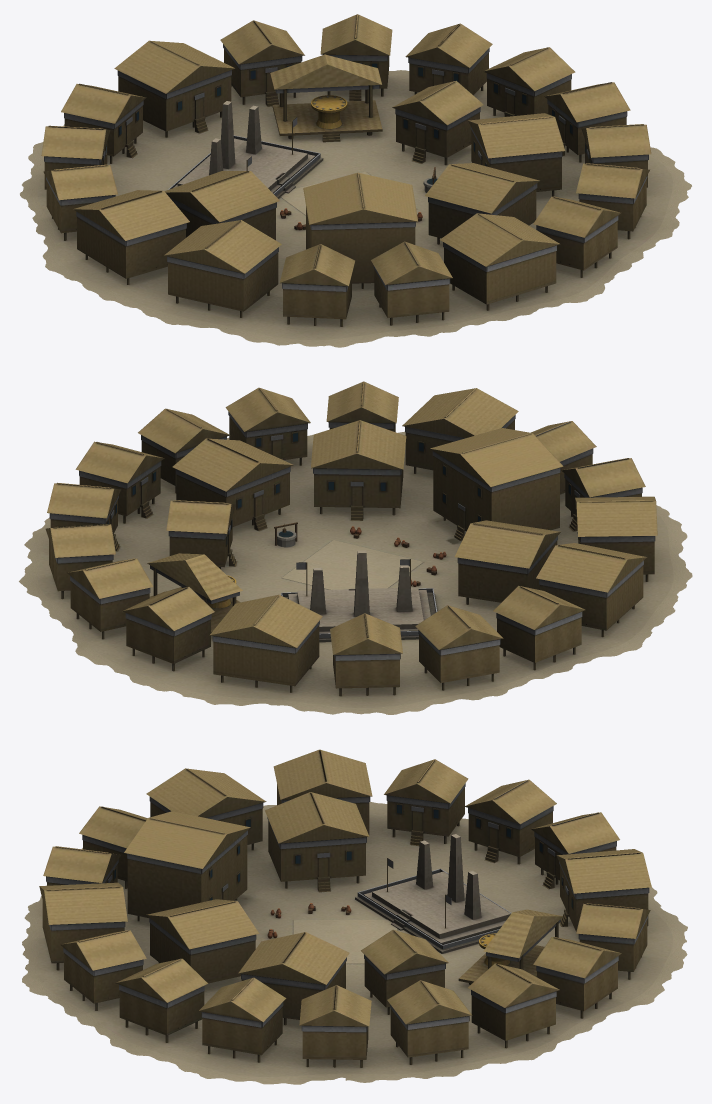
Rendered from bronze-town-big-b-monsoon.glb.
The picture shows the model from 3 angles, top to bottom: view 1: azimuth 30°, elevation 25°; view 2: azimuth 150°, elevation 25°; view 3: azimuth 270°, elevation 25°; orthographic projection.
Parts seen in each view (by area): view 1: LOD0; view 2: LOD0; view 3: LOD0.
Part boxes in pixels (box(x1,y1,x2,y2)): LOD0: box(20, 14, 691, 347); LOD0: box(19, 381, 692, 714); LOD0: box(22, 749, 687, 1084).
Size of what is drawn, in the model's own units: 7.98 by 1.11 by 7.91.
3 materials, 3 textured.
